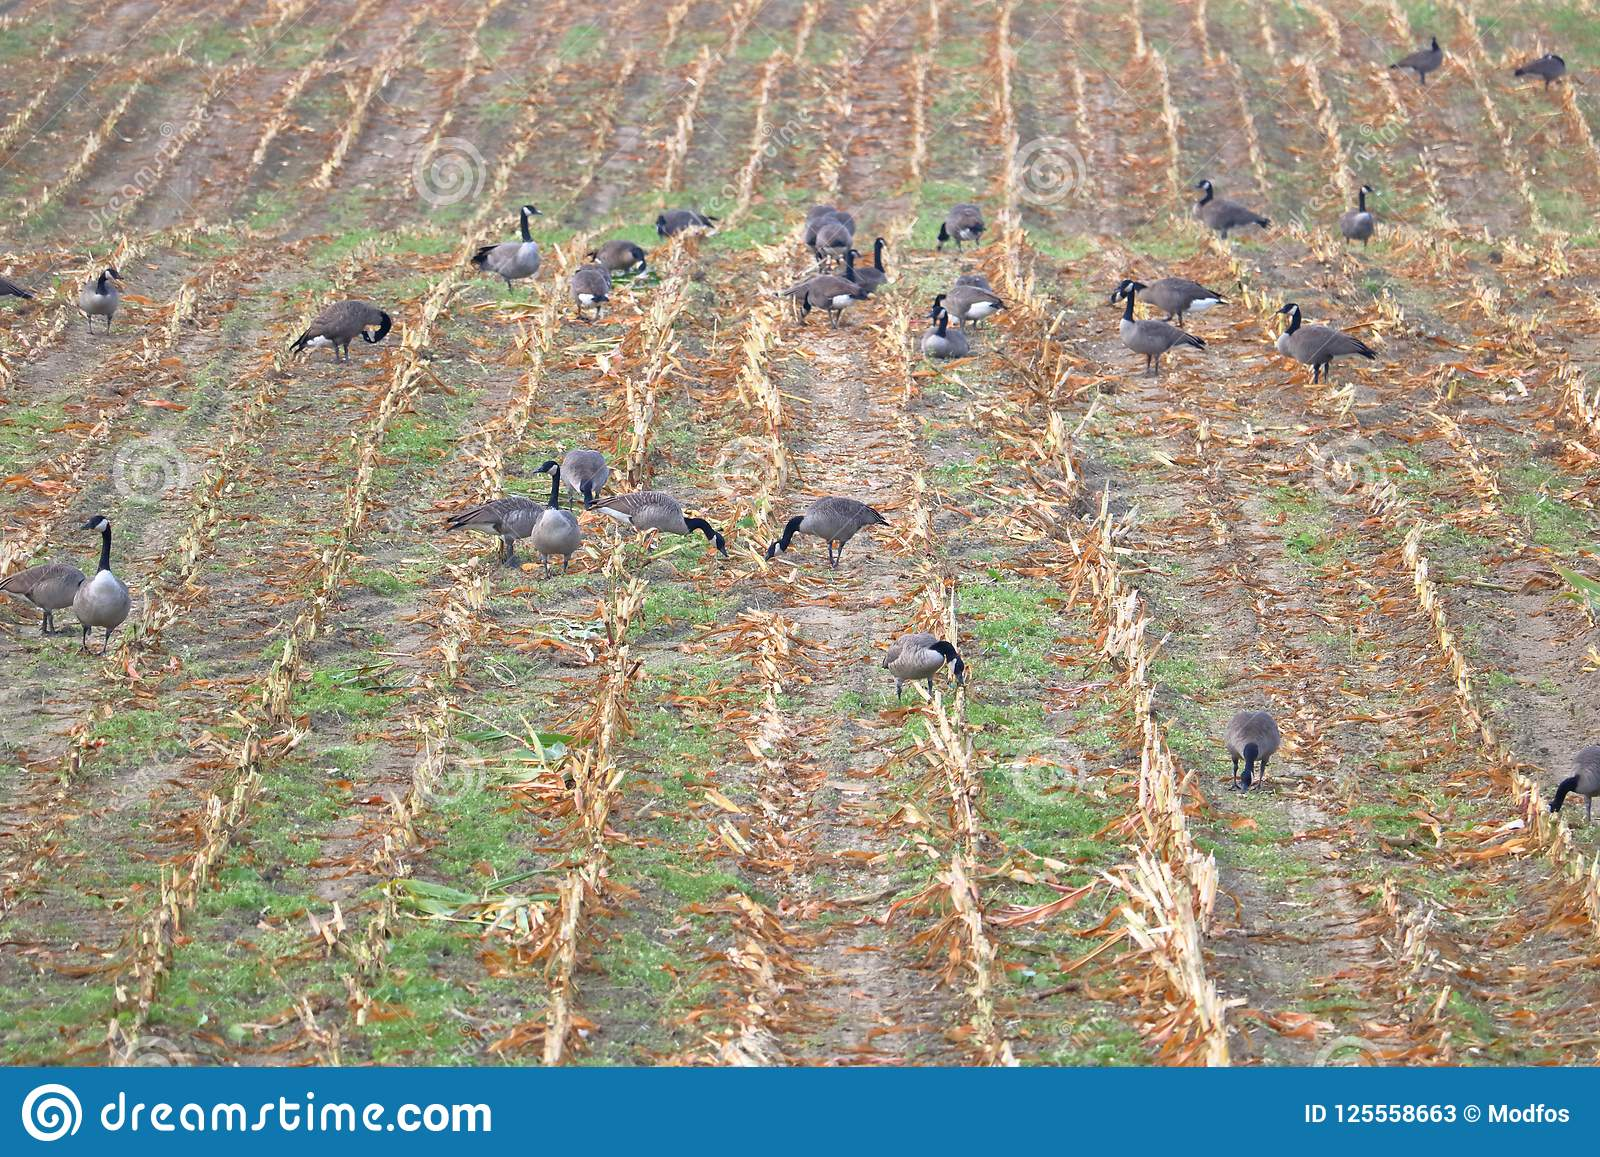goose: (1265, 298, 1383, 396), (593, 486, 732, 562), (1103, 278, 1207, 378), (766, 493, 897, 570), (66, 511, 132, 656), (1204, 702, 1288, 808), (288, 291, 394, 368), (467, 201, 554, 290), (439, 492, 549, 558), (873, 628, 968, 705), (1183, 171, 1271, 250), (1, 560, 91, 638), (1114, 268, 1239, 313), (530, 457, 578, 570), (1548, 731, 1600, 831), (67, 256, 128, 338), (789, 282, 872, 331), (1383, 31, 1452, 88), (1333, 176, 1383, 254), (829, 235, 898, 290), (924, 203, 994, 255), (561, 256, 612, 326), (646, 203, 722, 246), (793, 247, 872, 288), (557, 442, 619, 495), (1504, 52, 1578, 94), (934, 277, 1006, 316), (586, 235, 653, 273), (799, 205, 860, 236), (922, 309, 966, 352)
